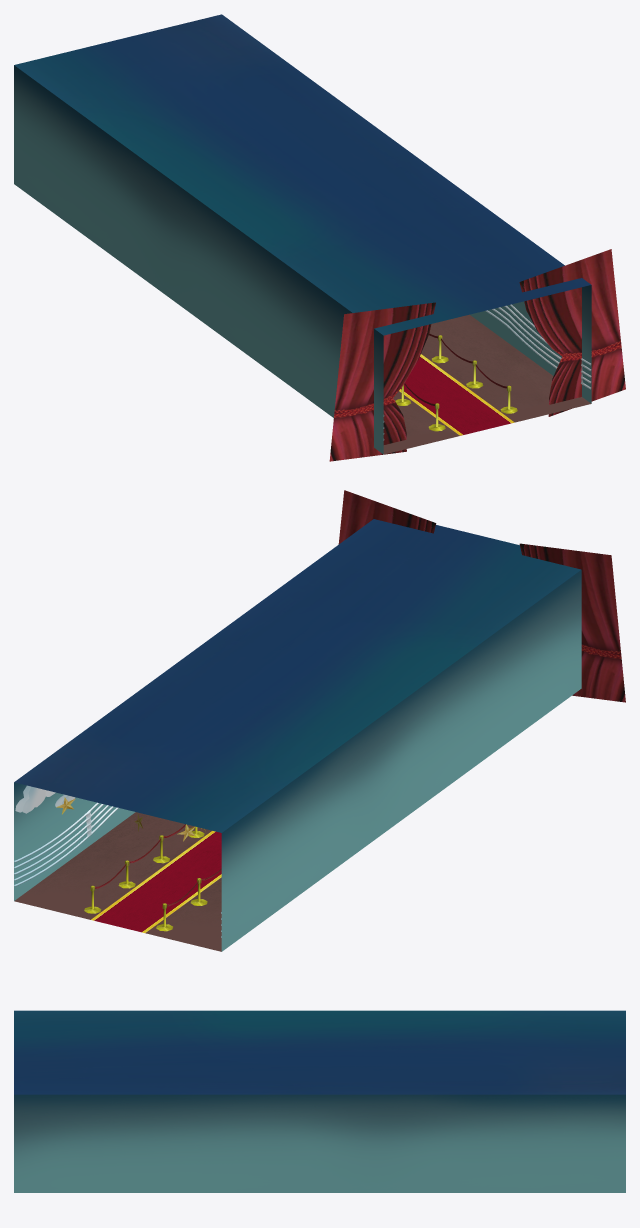
Rendered from raku-1.fbx.
3 views of the same model, one above another, from view 1: azimuth 30°, elevation 25°; view 2: azimuth 150°, elevation 25°; view 3: azimuth 270°, elevation 25° (orthographic). The views are drawn at different scales.
Parts seen in each view (by area): view 1: sky, wall_R, floor, katen_R, katen_L, wall_L; view 2: sky, wall_R, floor, wall_L, katen_R, katen_L; view 3: wall_L, sky.
Boxes of the visible parts, x1=… form: sky: x1=14, y1=14, x2=590, y2=335; wall_R: x1=14, y1=65, x2=384, y2=454; floor: x1=383, y1=314, x2=590, y2=454; katen_R: x1=329, y1=302, x2=435, y2=461; katen_L: x1=519, y1=249, x2=625, y2=416; wall_L: x1=470, y1=285, x2=591, y2=403; sky: x1=14, y1=519, x2=580, y2=832; wall_R: x1=221, y1=570, x2=581, y2=951; floor: x1=14, y1=812, x2=221, y2=951; wall_L: x1=14, y1=782, x2=135, y2=900; katen_R: x1=519, y1=543, x2=625, y2=702; katen_L: x1=338, y1=490, x2=436, y2=544; wall_L: x1=14, y1=1094, x2=625, y2=1192; sky: x1=14, y1=1010, x2=625, y2=1094.
Bounding box in the file's own units: 2708 × 1335 × 5850.
1 material, 1 textured.
